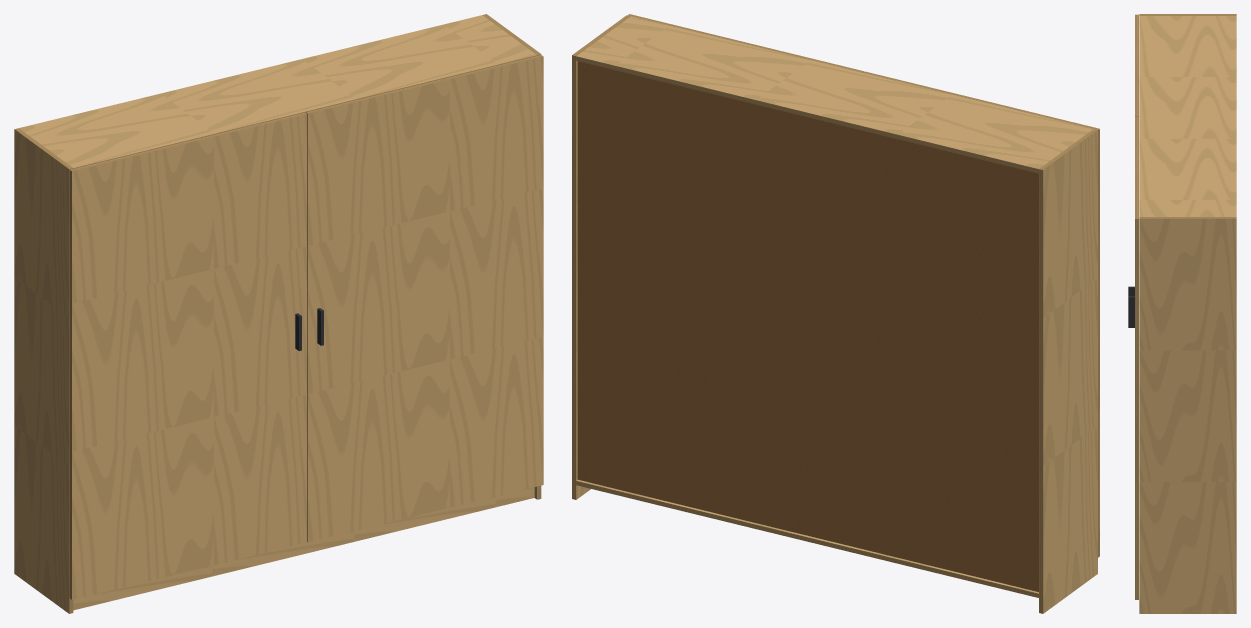
File: HIN-MDU-std.glb
3 views of the same model, side by side, from view 1: azimuth 30°, elevation 25°; view 2: azimuth 150°, elevation 25°; view 3: azimuth 270°, elevation 25° (orthographic). The views are drawn at different scales.
Parts seen in each view (by area): view 1: door-r:sheet:eyJtIjoicGx5Iiwic2lkZSI6ImZhY2UiLCJzZWVkIjoyLCJ, door-l:sheet:eyJtIjoicGx5Iiwic2lkZSI6ImZhY2UiLCJzZWVkIjoyLCJ, top:sheet:eyJtIjoicGx5Iiwic2lkZSI6ImZhY2UiLCJzZWVkIjo2LCJ2ZW, side-l:sheet:eyJtIjoicGx5Iiwic2lkZSI6ImZhY2UiLCJzZWVkIjoxLCJ, plinth:sheet:eyJtIjoicGx5Iiwic2lkZSI6ImZhY2UiLCJzZWVkIjozLCJ, door-l:sheet:eyJtIjoicGx5Iiwic2lkZSI6ImVkZ2UtbG9uZyIsInNlZWQ; view 2: back:sheet:eyJtIjoibWRmIiwic2lkZSI6ImZhY2UiLCJzZWVkIjoxLCJ0a, top:sheet:eyJtIjoicGx5Iiwic2lkZSI6ImZhY2UiLCJzZWVkIjo2LCJ2ZW, side-l:sheet:eyJtIjoicGx5Iiwic2lkZSI6ImZhY2UiLCJzZWVkIjoxLCJ, bottom:sheet:eyJtIjoicGx5Iiwic2lkZSI6ImVkZ2UtbG9uZyIsInNlZWQ, top:sheet:eyJtIjoicGx5Iiwic2lkZSI6ImVkZ2UtbG9uZyIsInNlZWQiOj, side-l:sheet:eyJtIjoicGx5Iiwic2lkZSI6ImVkZ2UtbG9uZyIsInNlZWQ, side-r:sheet:eyJtIjoicGx5Iiwic2lkZSI6ImVkZ2UtbG9uZyIsInNlZWQ, bottom:sheet:eyJtIjoicGx5Iiwic2lkZSI6ImZhY2UiLCJzZWVkIjowLCJ, side-r:sheet:eyJtIjoicGx5Iiwic2lkZSI6ImZhY2UiLCJzZWVkIjozLCJ, door-l:sheet:eyJtIjoicGx5Iiwic2lkZSI6ImVkZ2UtbG9uZyIsInNlZWQ; view 3: side-r:sheet:eyJtIjoicGx5Iiwic2lkZSI6ImZhY2UiLCJzZWVkIjozLCJ, top:sheet:eyJtIjoicGx5Iiwic2lkZSI6ImZhY2UiLCJzZWVkIjo2LCJ2ZW, door-r:sheet:eyJtIjoicGx5Iiwic2lkZSI6ImVkZ2UtbG9uZyIsInNlZWQ, door-l:sheet:eyJtIjoicGx5Iiwic2lkZSI6ImVkZ2UtZW5kIiwic2VlZCI, door-r:sheet:eyJtIjoicGx5Iiwic2lkZSI6ImVkZ2UtZW5kIiwic2VlZCI, pull, side-l:sheet:eyJtIjoicGx5Iiwic2lkZSI6ImVkZ2UtZW5kIiwic2VlZCI, side-r:sheet:eyJtIjoicGx5Iiwic2lkZSI6ImVkZ2UtZW5kIiwic2VlZCI.
Boxes of the visible parts, x1=… form: door-r:sheet:eyJtIjoicGx5Iiwic2lkZSI6ImZhY2UiLCJzZWVkIjoyLCJ: x1=308, y1=56, x2=543, y2=542; door-l:sheet:eyJtIjoicGx5Iiwic2lkZSI6ImZhY2UiLCJzZWVkIjoyLCJ: x1=72, y1=114, x2=307, y2=599; top:sheet:eyJtIjoicGx5Iiwic2lkZSI6ImZhY2UiLCJzZWVkIjo2LCJ2ZW: x1=19, y1=15, x2=536, y2=168; side-l:sheet:eyJtIjoicGx5Iiwic2lkZSI6ImZhY2UiLCJzZWVkIjoxLCJ: x1=14, y1=129, x2=69, y2=613; plinth:sheet:eyJtIjoicGx5Iiwic2lkZSI6ImZhY2UiLCJzZWVkIjozLCJ: x1=73, y1=487, x2=534, y2=610; door-l:sheet:eyJtIjoicGx5Iiwic2lkZSI6ImVkZ2UtbG9uZyIsInNlZWQ: x1=69, y1=170, x2=71, y2=599; back:sheet:eyJtIjoibWRmIiwic2lkZSI6ImZhY2UiLCJzZWVkIjoxLCJ0a: x1=577, y1=61, x2=1038, y2=591; top:sheet:eyJtIjoicGx5Iiwic2lkZSI6ImZhY2UiLCJzZWVkIjo2LCJ2ZW: x1=576, y1=16, x2=1093, y2=168; side-l:sheet:eyJtIjoicGx5Iiwic2lkZSI6ImZhY2UiLCJzZWVkIjoxLCJ: x1=1043, y1=130, x2=1097, y2=613; bottom:sheet:eyJtIjoicGx5Iiwic2lkZSI6ImVkZ2UtbG9uZyIsInNlZWQ: x1=576, y1=481, x2=1038, y2=597; top:sheet:eyJtIjoicGx5Iiwic2lkZSI6ImVkZ2UtbG9uZyIsInNlZWQiOj: x1=576, y1=56, x2=1038, y2=173; side-l:sheet:eyJtIjoicGx5Iiwic2lkZSI6ImVkZ2UtbG9uZyIsInNlZWQ: x1=1039, y1=169, x2=1043, y2=613; side-r:sheet:eyJtIjoicGx5Iiwic2lkZSI6ImVkZ2UtbG9uZyIsInNlZWQ: x1=572, y1=55, x2=576, y2=499; bottom:sheet:eyJtIjoicGx5Iiwic2lkZSI6ImZhY2UiLCJzZWVkIjowLCJ: x1=576, y1=480, x2=1038, y2=593; side-r:sheet:eyJtIjoicGx5Iiwic2lkZSI6ImZhY2UiLCJzZWVkIjozLCJ: x1=576, y1=61, x2=590, y2=499; door-l:sheet:eyJtIjoicGx5Iiwic2lkZSI6ImVkZ2UtbG9uZyIsInNlZWQ: x1=1098, y1=129, x2=1099, y2=557; side-r:sheet:eyJtIjoicGx5Iiwic2lkZSI6ImZhY2UiLCJzZWVkIjozLCJ: x1=1139, y1=218, x2=1236, y2=613; top:sheet:eyJtIjoicGx5Iiwic2lkZSI6ImZhY2UiLCJzZWVkIjo2LCJ2ZW: x1=1139, y1=16, x2=1236, y2=216; door-r:sheet:eyJtIjoicGx5Iiwic2lkZSI6ImVkZ2UtbG9uZyIsInNlZWQ: x1=1135, y1=219, x2=1138, y2=599; door-l:sheet:eyJtIjoicGx5Iiwic2lkZSI6ImVkZ2UtZW5kIiwic2VlZCI: x1=1135, y1=14, x2=1138, y2=116; door-r:sheet:eyJtIjoicGx5Iiwic2lkZSI6ImVkZ2UtZW5kIiwic2VlZCI: x1=1135, y1=117, x2=1138, y2=218; pull: x1=1128, y1=286, x2=1134, y2=327; side-l:sheet:eyJtIjoicGx5Iiwic2lkZSI6ImVkZ2UtZW5kIiwic2VlZCI: x1=1139, y1=14, x2=1236, y2=15; side-r:sheet:eyJtIjoicGx5Iiwic2lkZSI6ImVkZ2UtZW5kIiwic2VlZCI: x1=1139, y1=217, x2=1236, y2=218.
Size of the model in its own units: 2 by 1.8 by 0.4468.
34 materials, 33 textured.
